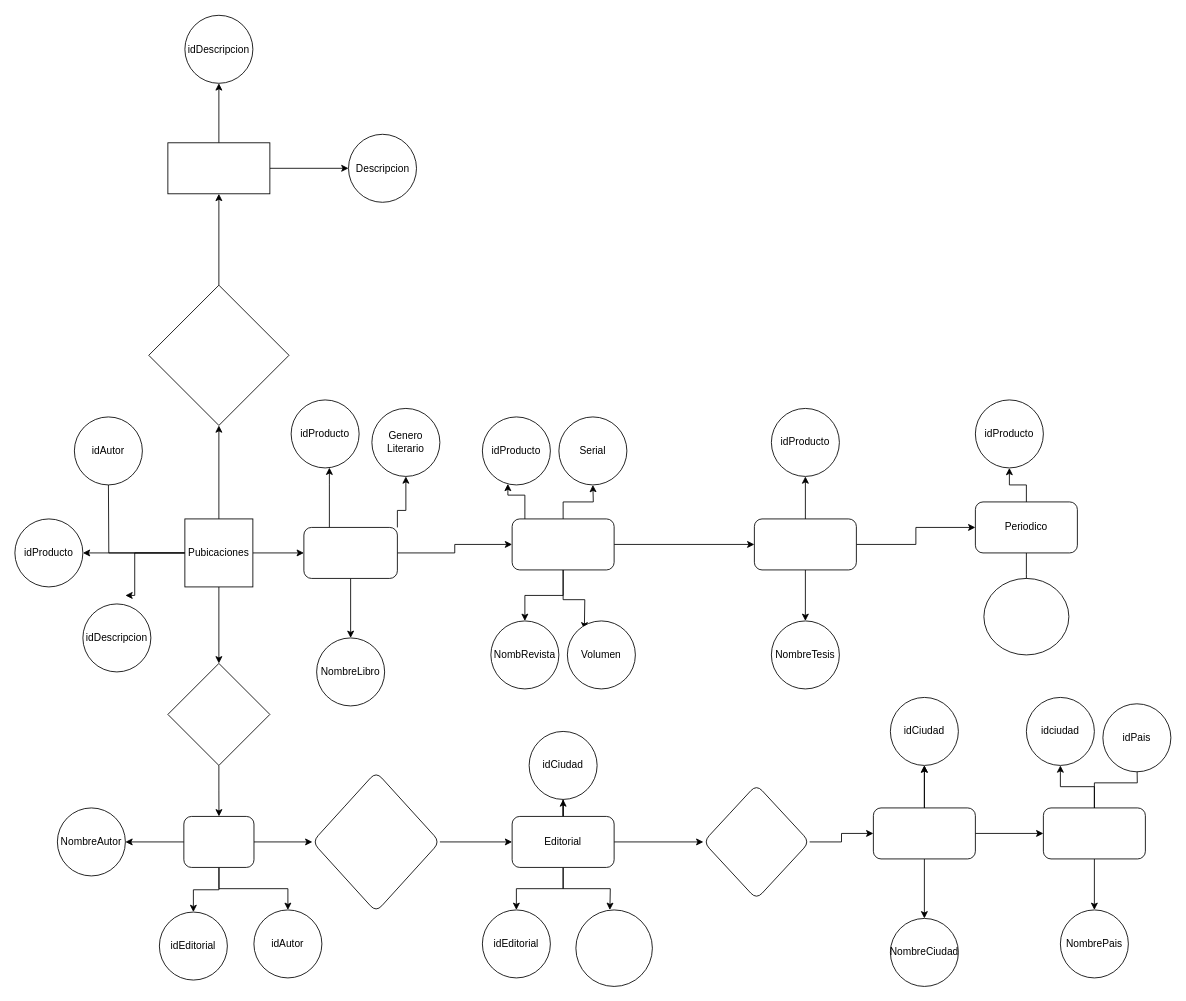
This 1186x1001 diagram has some shape labels left out. The centre of each missing label's shape, as x and y in pixels:
Autor: pixel 218 841
Cada Autor pertenece a un editorial: pixel 376 841
Cada editorial tiene una ubicacion: pixel 756 841
Cada publicacion tiene un descriptor: pixel 218 354
cada publicación tiene un Autor: pixel 218 714
Ciudad: pixel 924 833
Descriptor: pixel 218 168
Libro: pixel 350 552
NombreEditorial: pixel 613 947
NombrePeriodico: pixel 1026 616
Pais: pixel 1094 833
Revista: pixel 562 544
Tesis: pixel 805 544
